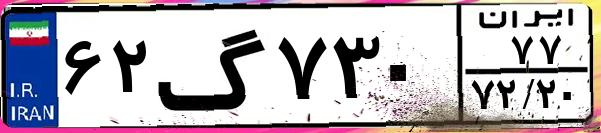0: (385, 28, 445, 110), (560, 70, 590, 125)
2: (110, 28, 156, 98), (495, 70, 520, 125), (535, 70, 560, 125)
3: (330, 28, 385, 110)
6: (57, 26, 110, 100)
7: (270, 28, 330, 110), (537, 27, 568, 80), (508, 27, 537, 80), (470, 70, 495, 125)
گ: (156, 12, 270, 120)
